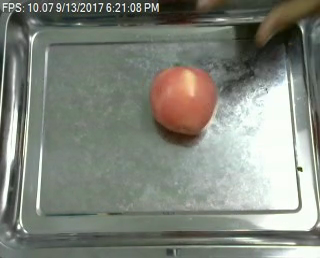Apple: (146, 64, 219, 136)
